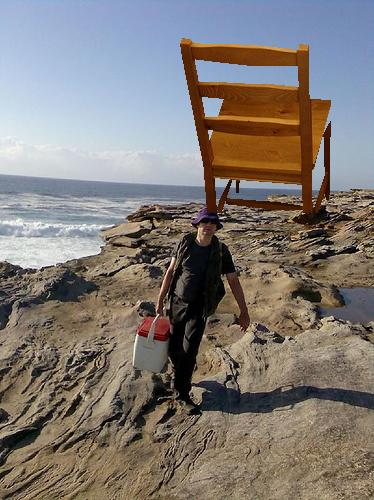tampered: (181, 39, 331, 213)
